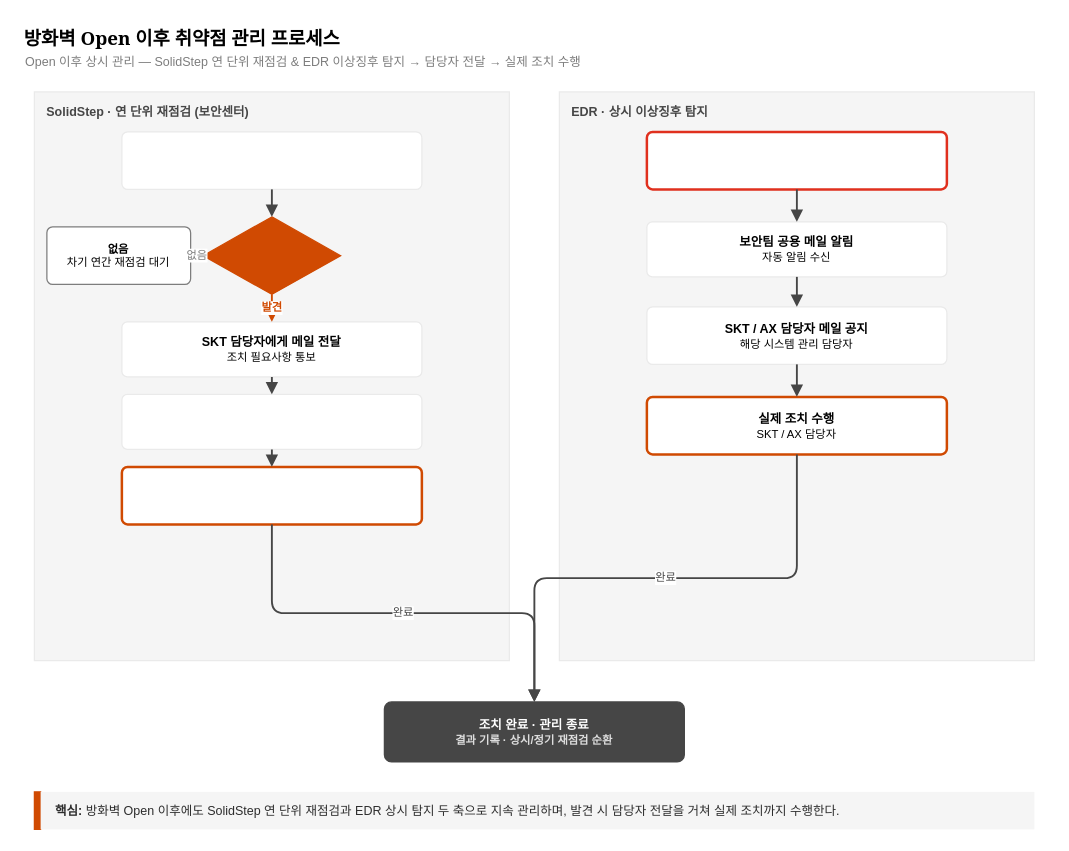
Image size: 1069x851. Some labels were removed from this diagram. Each missing label, with the centre of its shape:
EDR 이상징후 발견 상시 탐지: pixel 796 160
SKT 담당자 → Infra 운영자 전달 조치 요청 인계: pixel 271 421
보안센터 SolidStep 재점검 연 단위 정기 재점검: pixel 271 160
실제 조치 수행 Infra 운영자: pixel 271 495
조치 필요 사항?: pixel 271 255
